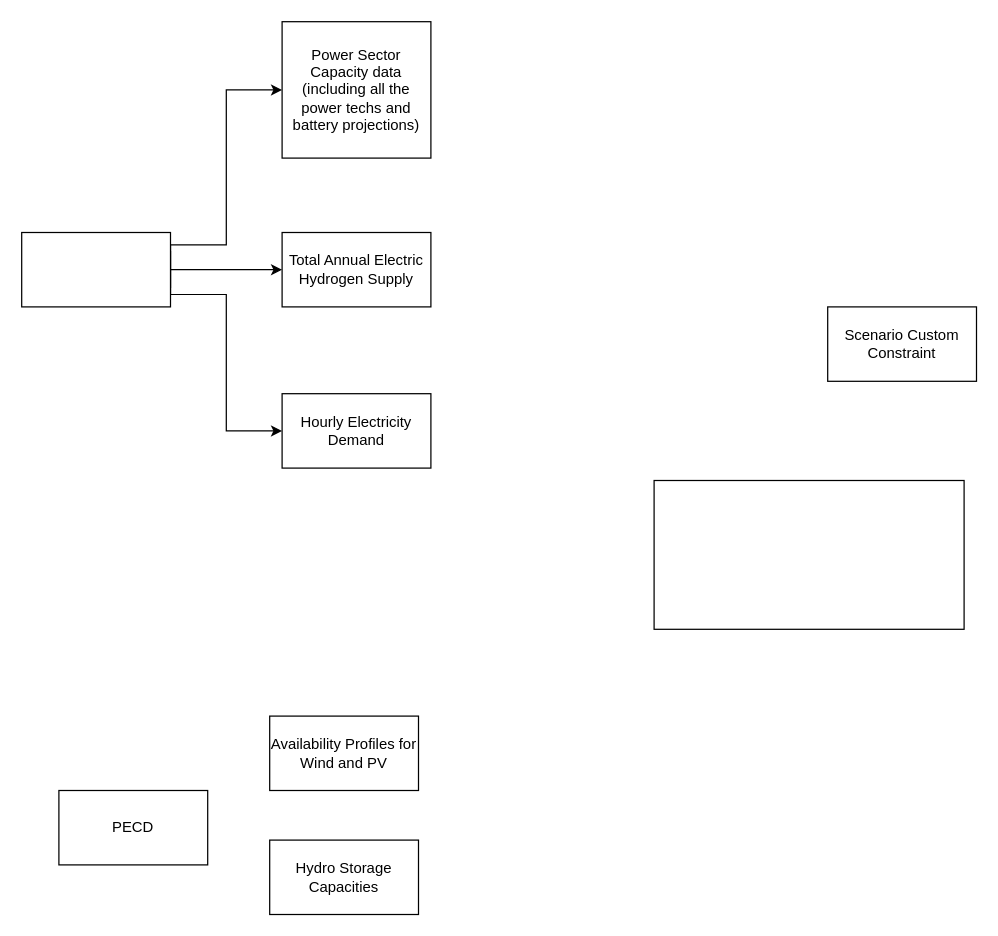
This 998x936 diagram has some shape labels left out. The centre of each missing label's shape, as x and y in pixels:
"Calliope" goes at (808,554).
"TYNDP 2024" goes at (95,269).
